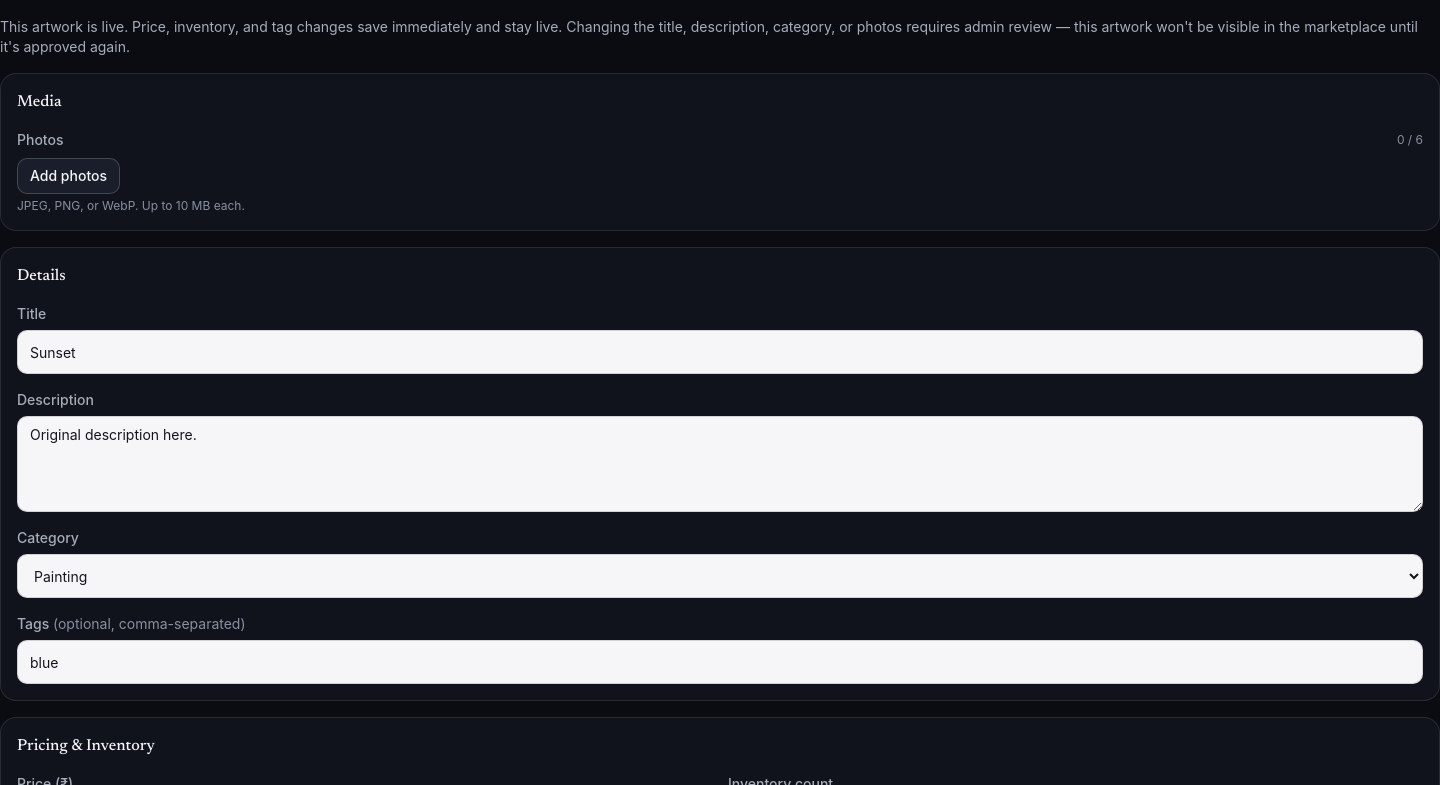
Test: ArtworkForm — edit mode (PUBLISHED, Module 13 Phase 4) › cancelling the confirmation dialog never resubmits
Replace the text in the text box labelled "Description" with "A brand new description entirely.": (720, 464) top-left (17, 416), bottom-right (1423, 512)
(page scrolled)
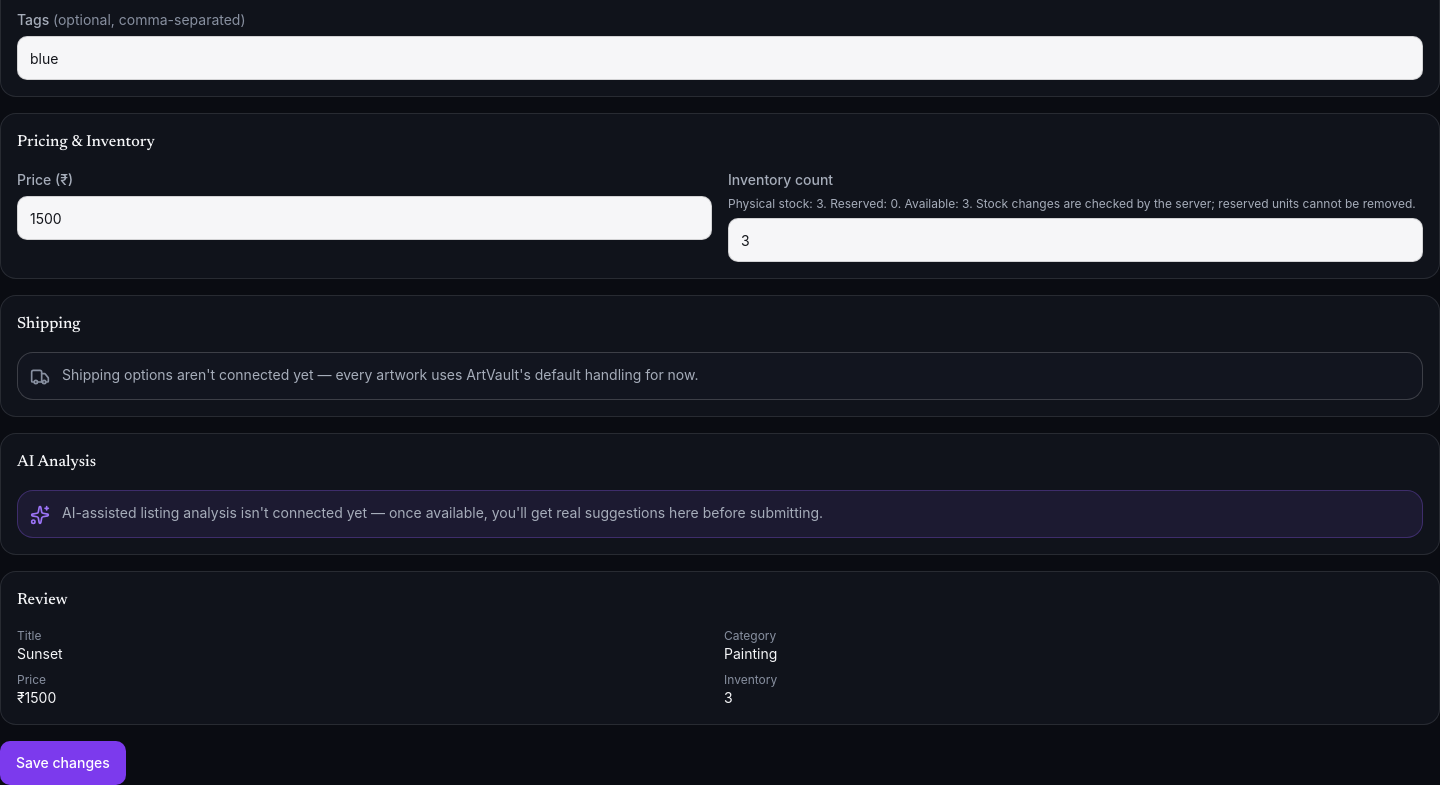
Click the button "Save changes": (63, 763) top-left (0, 741), bottom-right (126, 784)
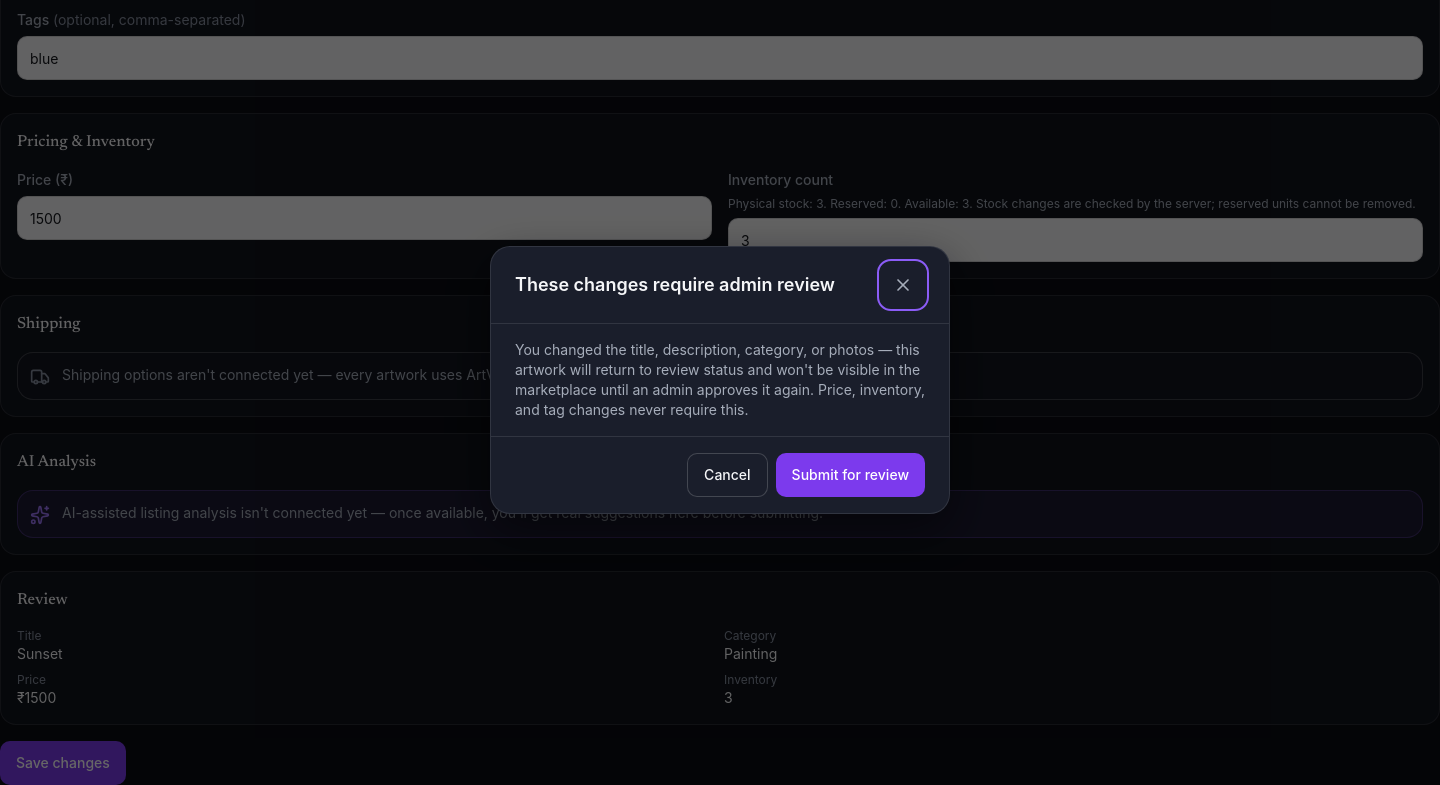
Now the dialog is shown, box top-left (490, 246), bottom-right (950, 514)
Click the button "Cancel": (727, 475) top-left (687, 453), bottom-right (768, 497)
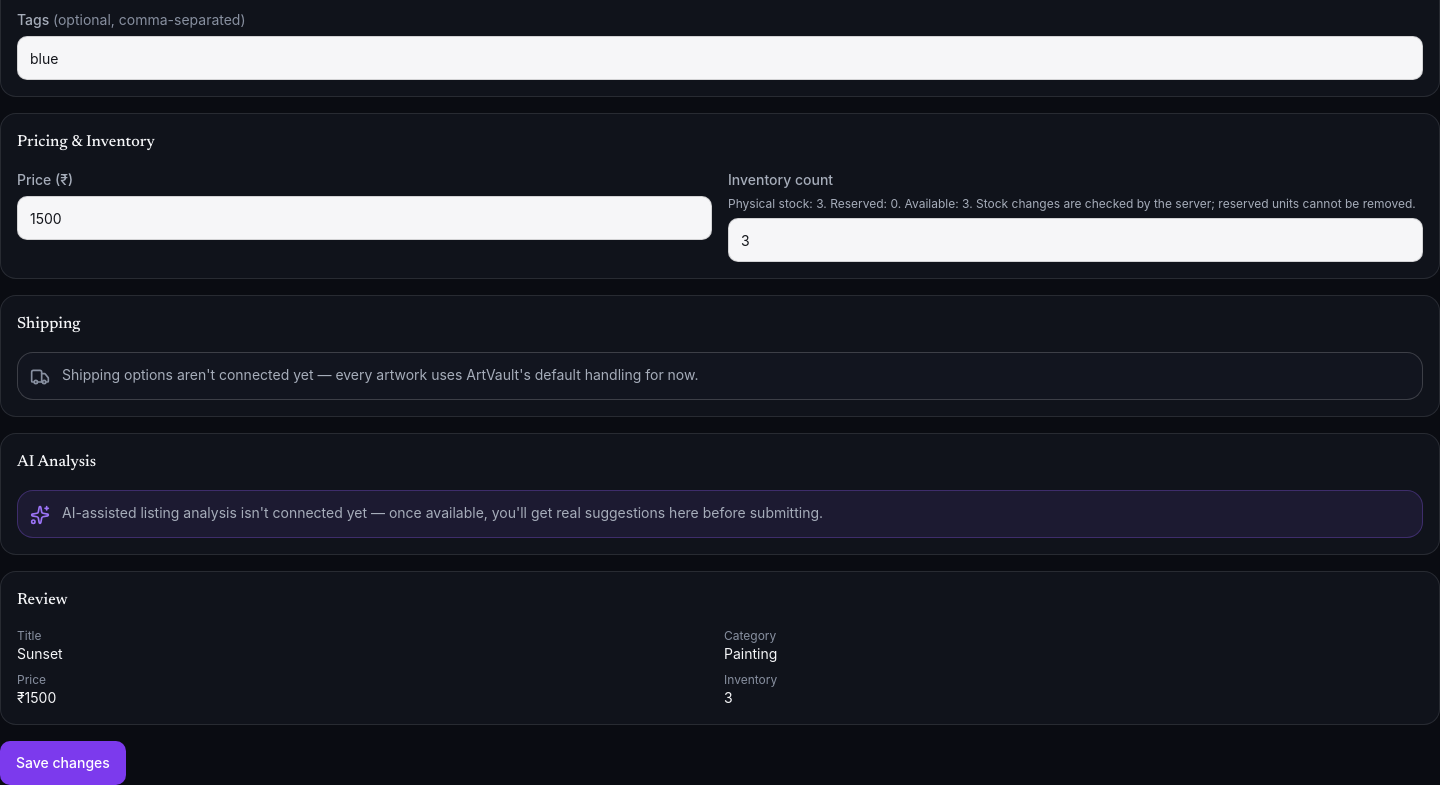
Now the dialog is gone
